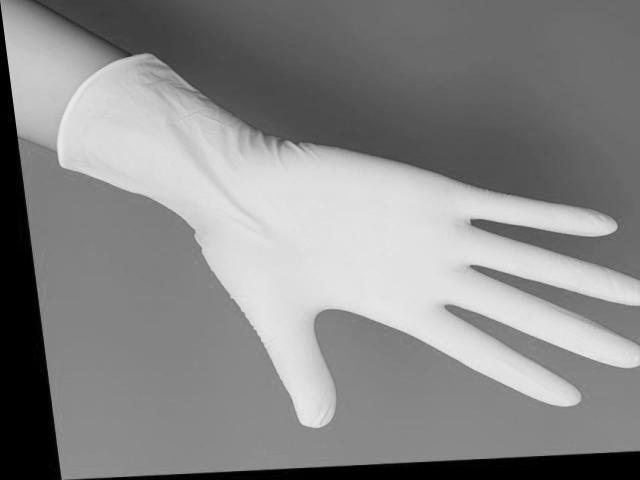gloved: (167, 134, 640, 429)
